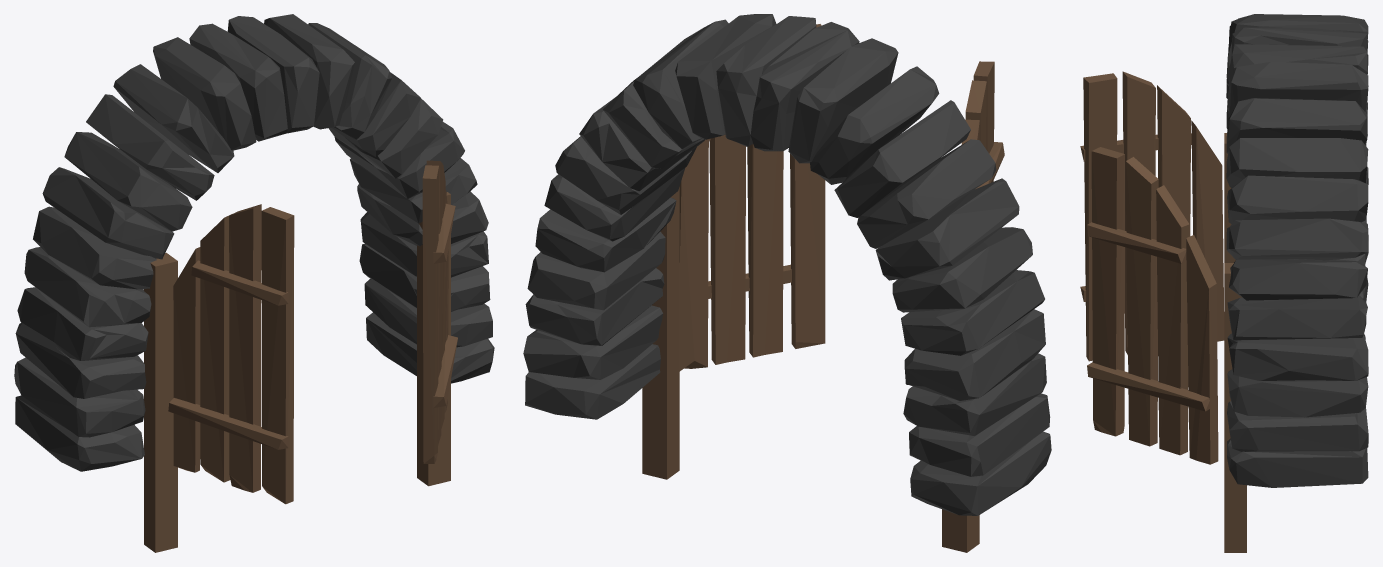
Rendered from arch-door.lod0.glb.
The picture shows the model from 3 angles, left to right: view 1: azimuth 30°, elevation 25°; view 2: azimuth 150°, elevation 25°; view 3: azimuth 270°, elevation 25°; orthographic projection. The views are drawn at different scales.
Parts seen in each view (by area): view 1: Object_3; view 2: Object_3; view 3: Object_3.
Part boxes in pixels (x1,y1,x2,y2): Object_3: (14, 14, 494, 552); Object_3: (523, 14, 1051, 552); Object_3: (1080, 14, 1368, 552).
Bounding box in the file's own units: 3.31 × 3.4 × 2.02.
